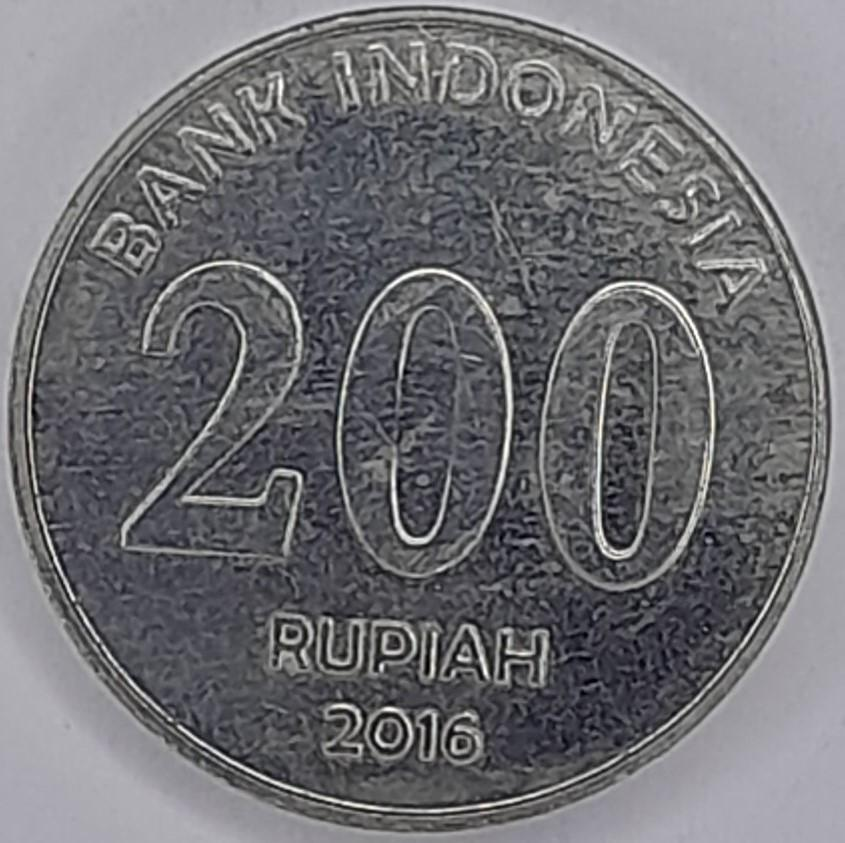coin_200_e2016: (0, 15, 845, 843)
